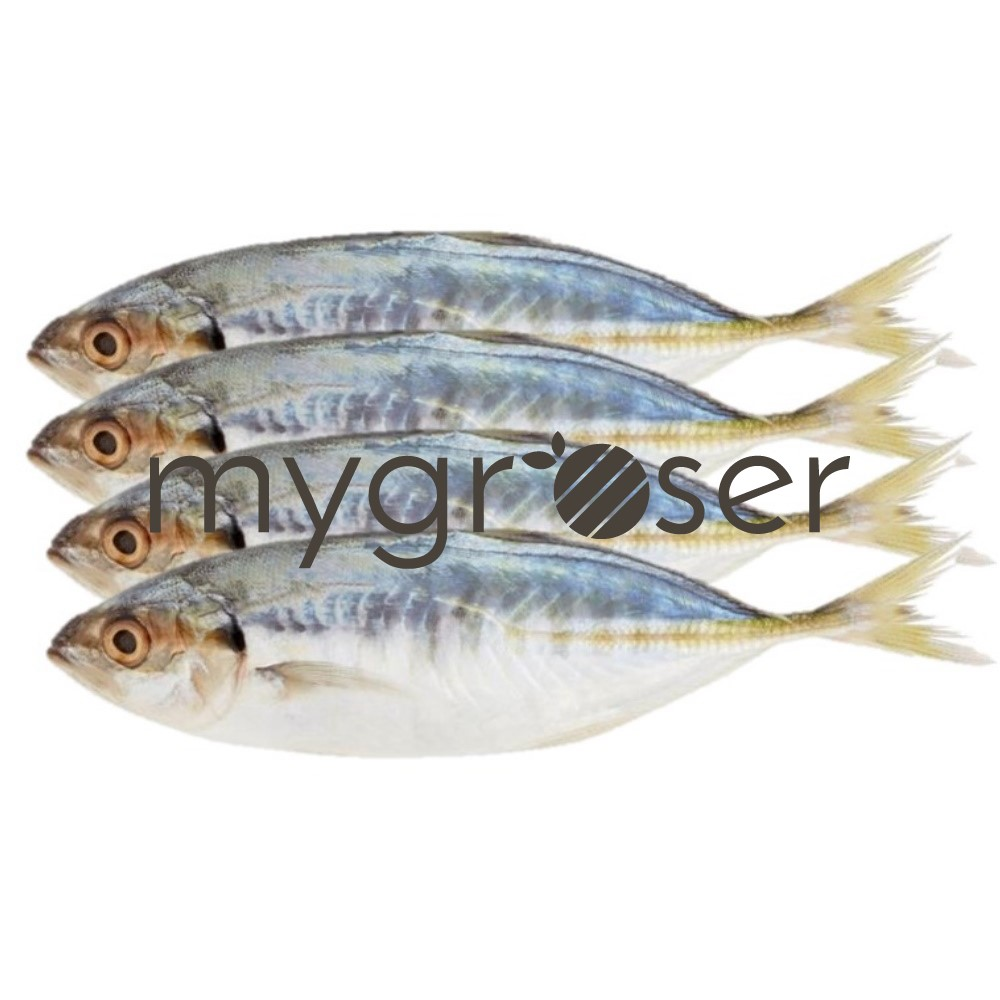Ikan Selar: (53, 541, 962, 747), (22, 232, 953, 386), (7, 343, 953, 475)
